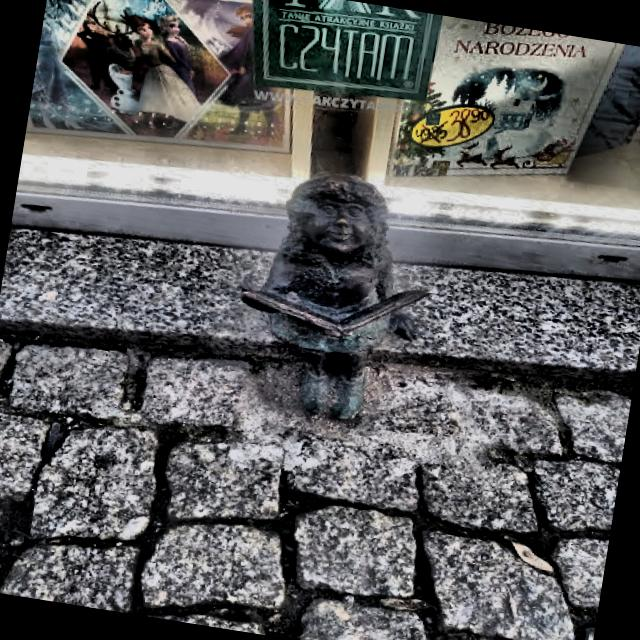Ksiegarka: (212, 154, 456, 436)
